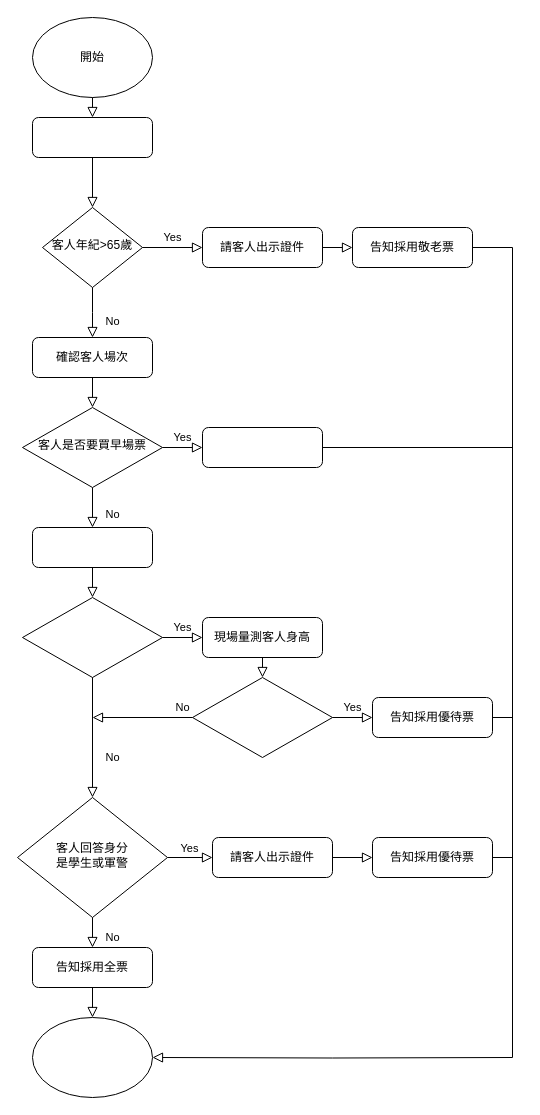
This 540x1115 diagram has some shape labels left out. Each missing label, with the centre of its shape:
告知採用早場票: pixel 262 447
客人回答身分是孩童: pixel 92 637
客人身高<110 cm: pixel 262 717
確認客人年紀: pixel 92 137
確認客人身分: pixel 92 547
結束: pixel 92 1057
